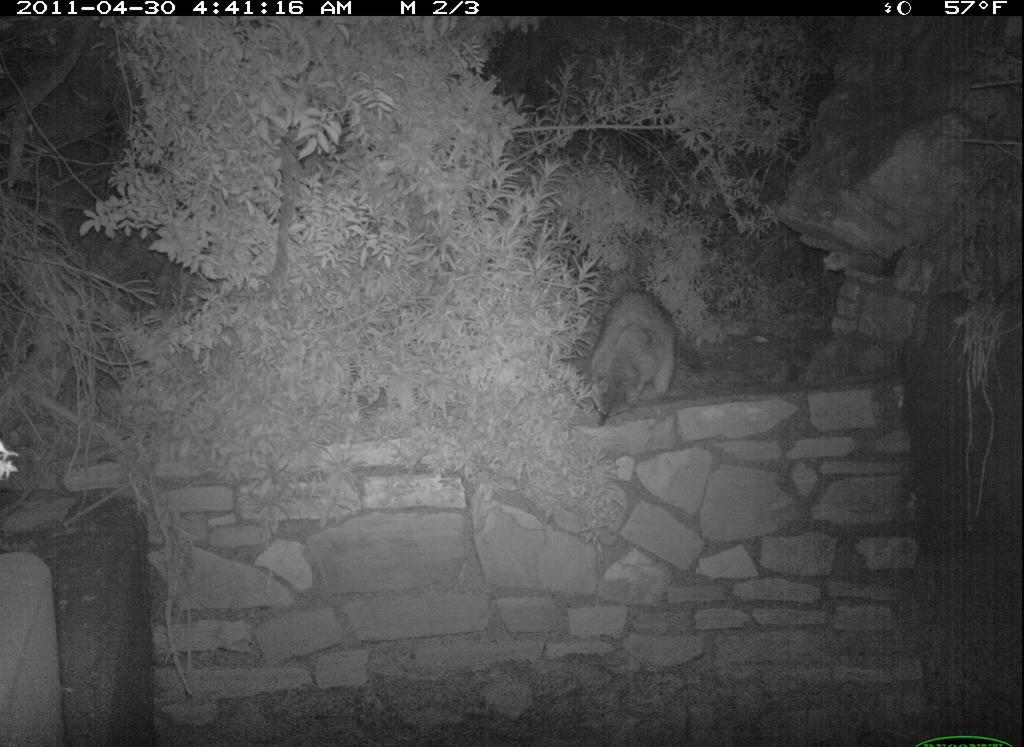raccoon: (579, 282, 689, 436)
